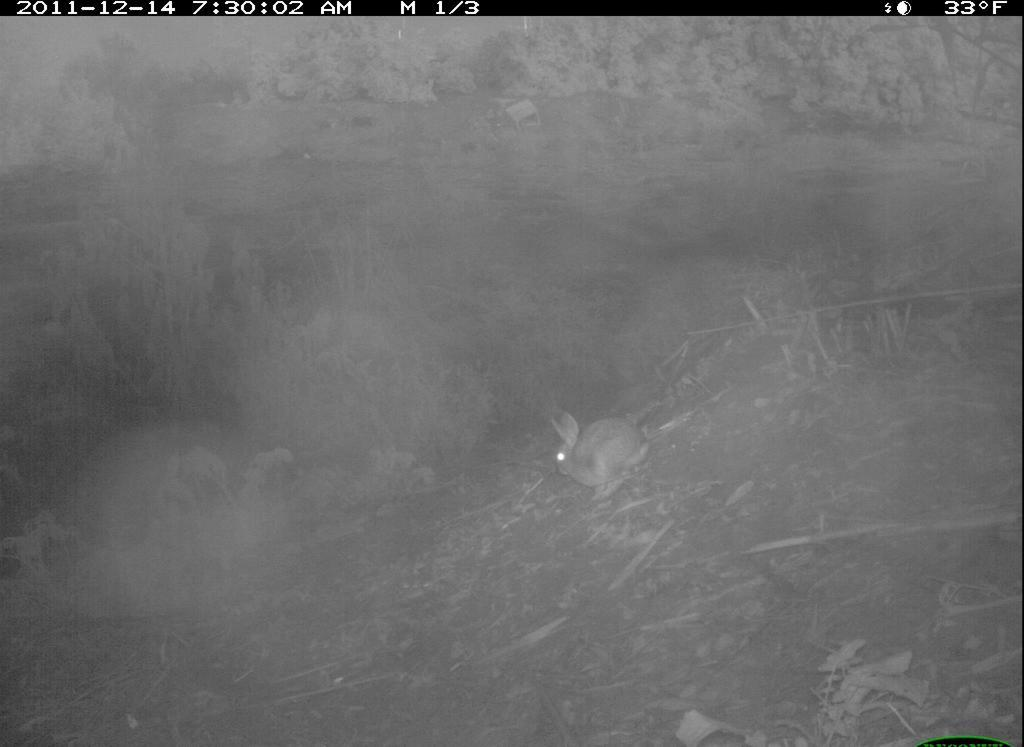rabbit: (551, 400, 656, 507)
